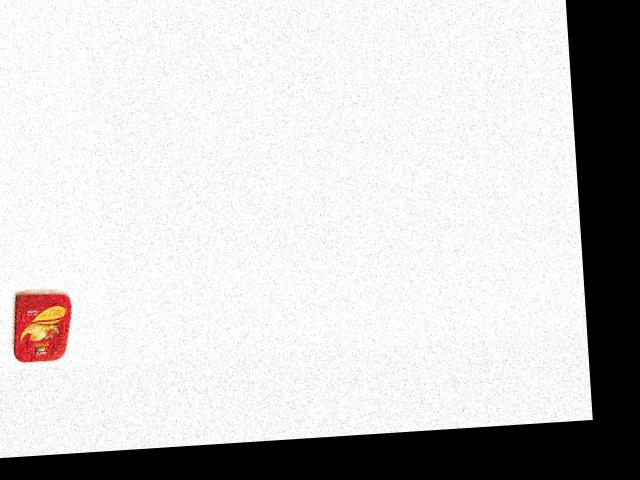cheese: (7, 287, 75, 367)
